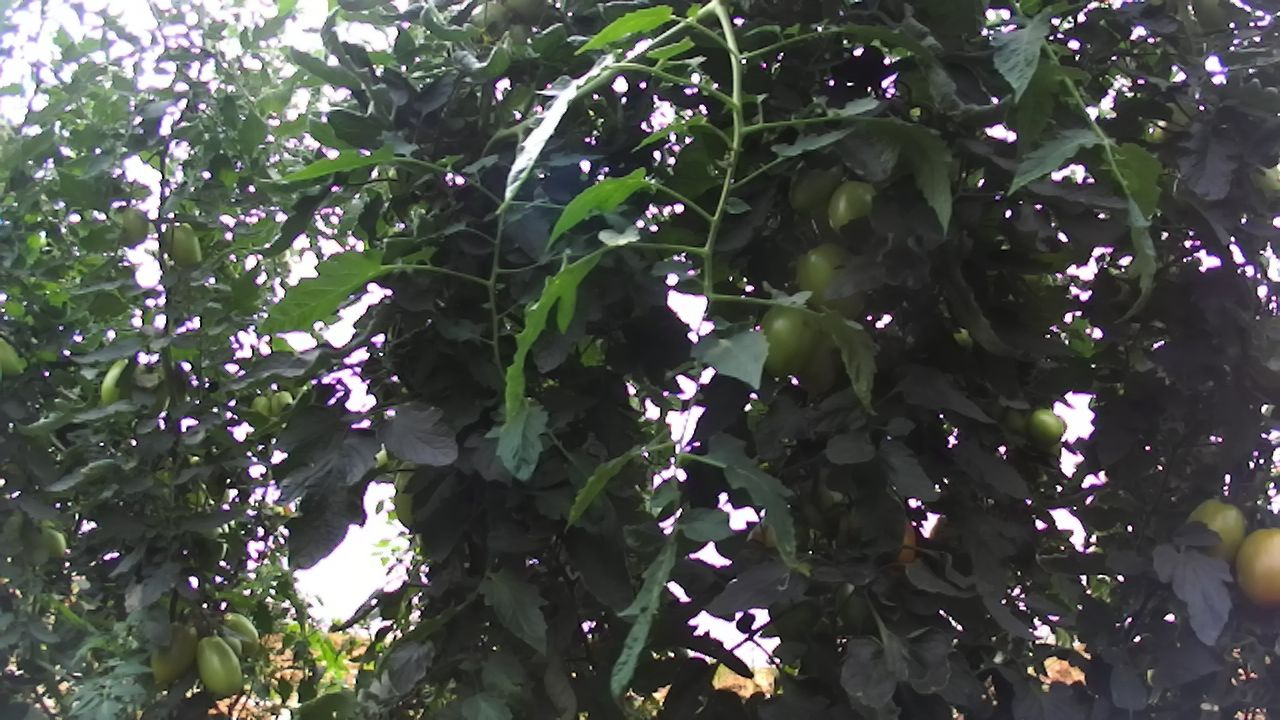tomato: (793, 241, 870, 322), (749, 301, 824, 382), (1173, 499, 1255, 566), (778, 148, 852, 221), (1229, 521, 1280, 609), (143, 620, 203, 687), (823, 174, 885, 238), (197, 633, 247, 699), (109, 201, 155, 252), (1025, 406, 1069, 447)
